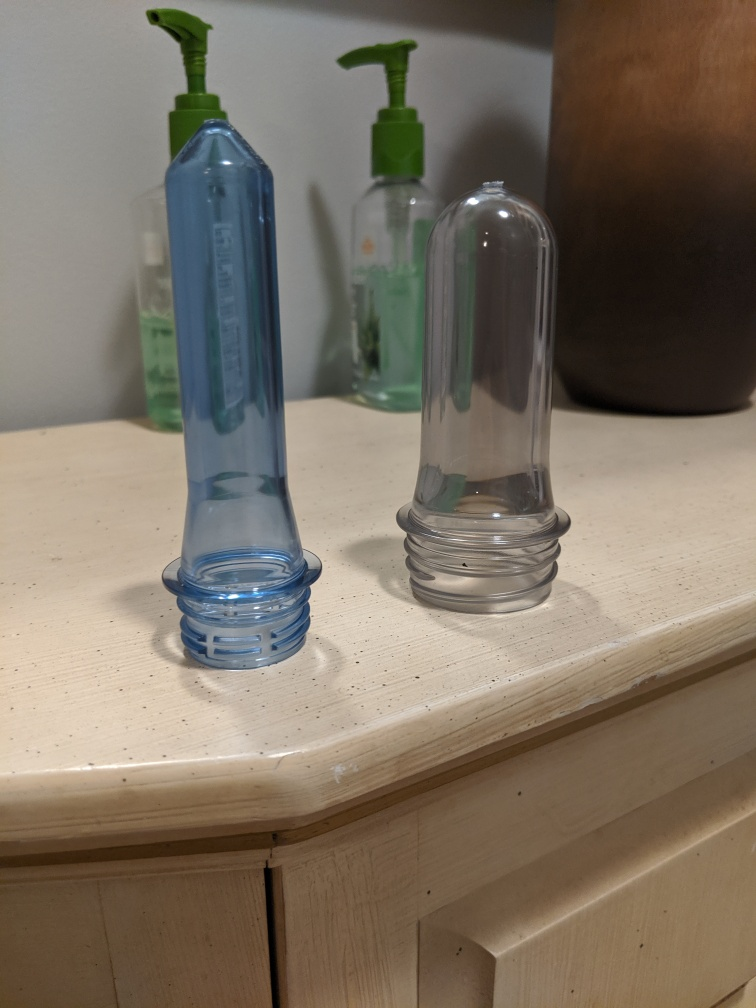preform: (153, 110, 332, 674), (391, 174, 583, 622)
